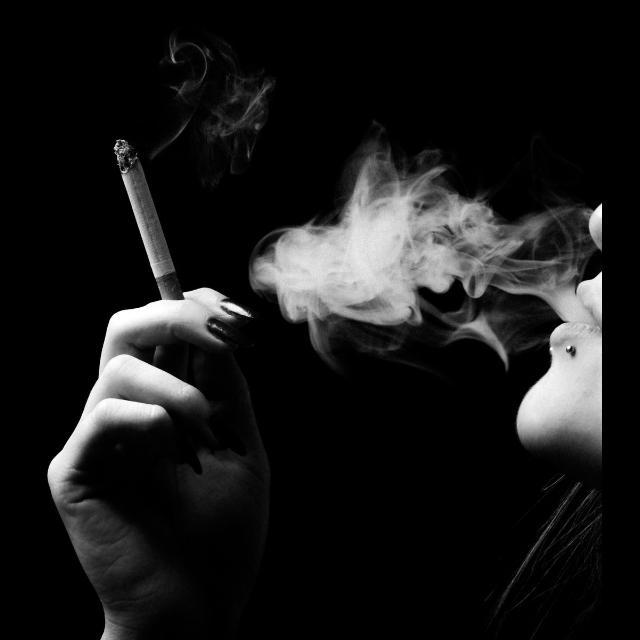rokok: (107, 130, 191, 298)
